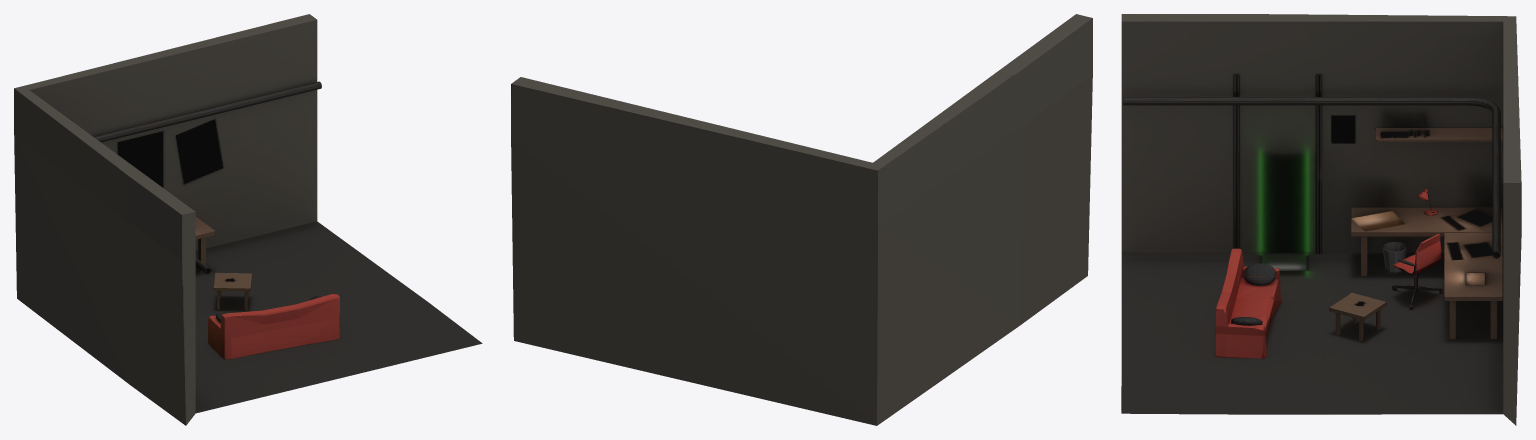
File: room.glb
3 renders of one model, left to right at view 1: azimuth 30°, elevation 25°; view 2: azimuth 150°, elevation 25°; view 3: azimuth 270°, elevation 25°, orthographic. The views are drawn at different scales.
Parts seen in each view (by area): view 1: room; view 2: room; view 3: room.
Part boxes in pixels (x1=…): room: x1=14, y1=14, x2=482, y2=425; room: x1=511, y1=14, x2=1092, y2=425; room: x1=1121, y1=14, x2=1521, y2=425.
Bounding box in the file's own units: 4.72 × 3.16 × 4.72.
1 material, 1 textured.
